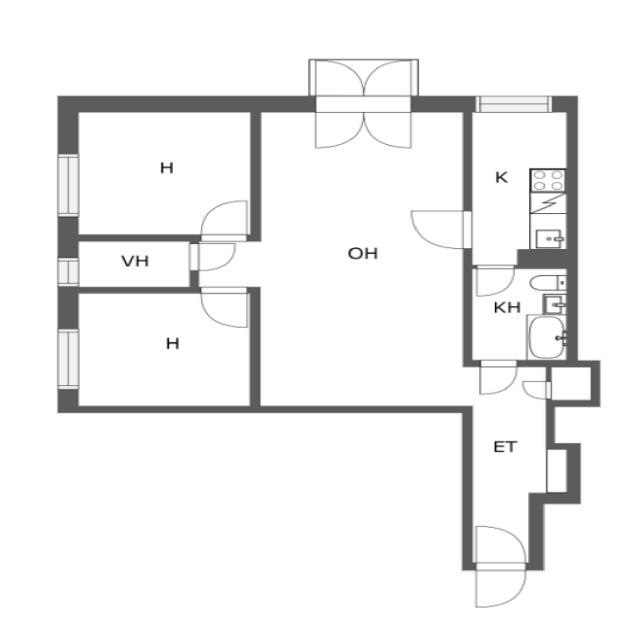door: (298, 51, 420, 153), (465, 262, 573, 362), (464, 517, 531, 612), (307, 56, 411, 102), (404, 201, 476, 254), (191, 194, 253, 242), (196, 285, 251, 330), (187, 238, 241, 274), (469, 261, 519, 299), (473, 358, 520, 398), (519, 378, 555, 402)
window: (467, 265, 573, 365), (463, 86, 564, 120), (48, 144, 86, 228), (50, 320, 84, 399), (53, 249, 80, 290)
zone: (256, 106, 470, 425), (67, 106, 257, 238), (71, 289, 255, 411), (465, 106, 570, 265), (471, 406, 547, 571), (464, 266, 574, 365), (63, 238, 196, 290)
